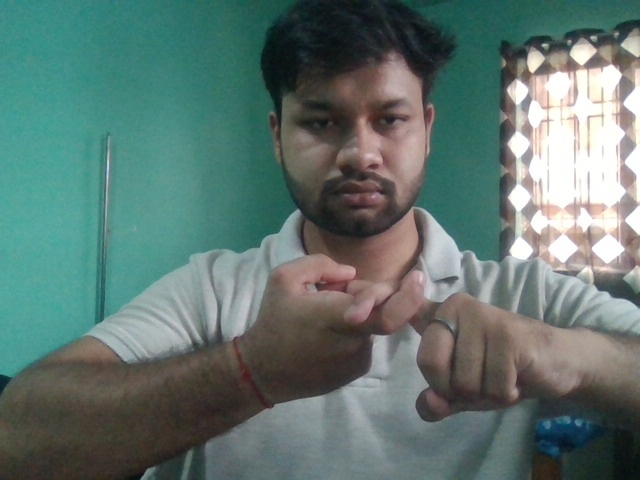Friend: (246, 251, 584, 425)
